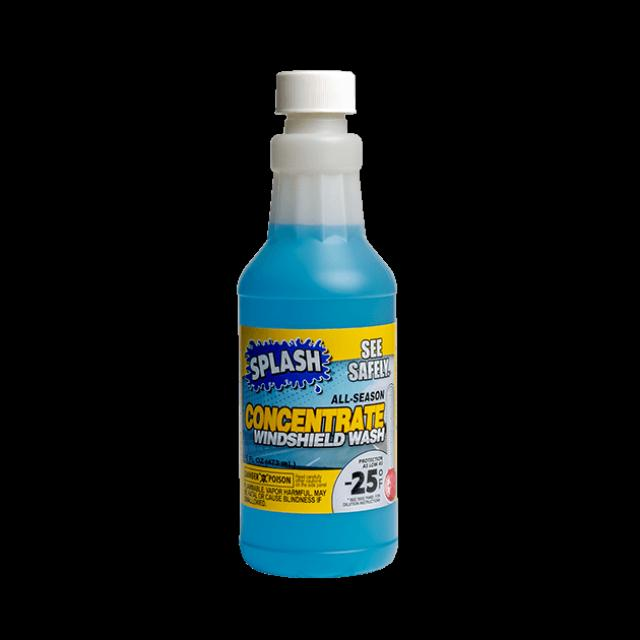winwinshield_washer: (235, 65, 402, 587)
